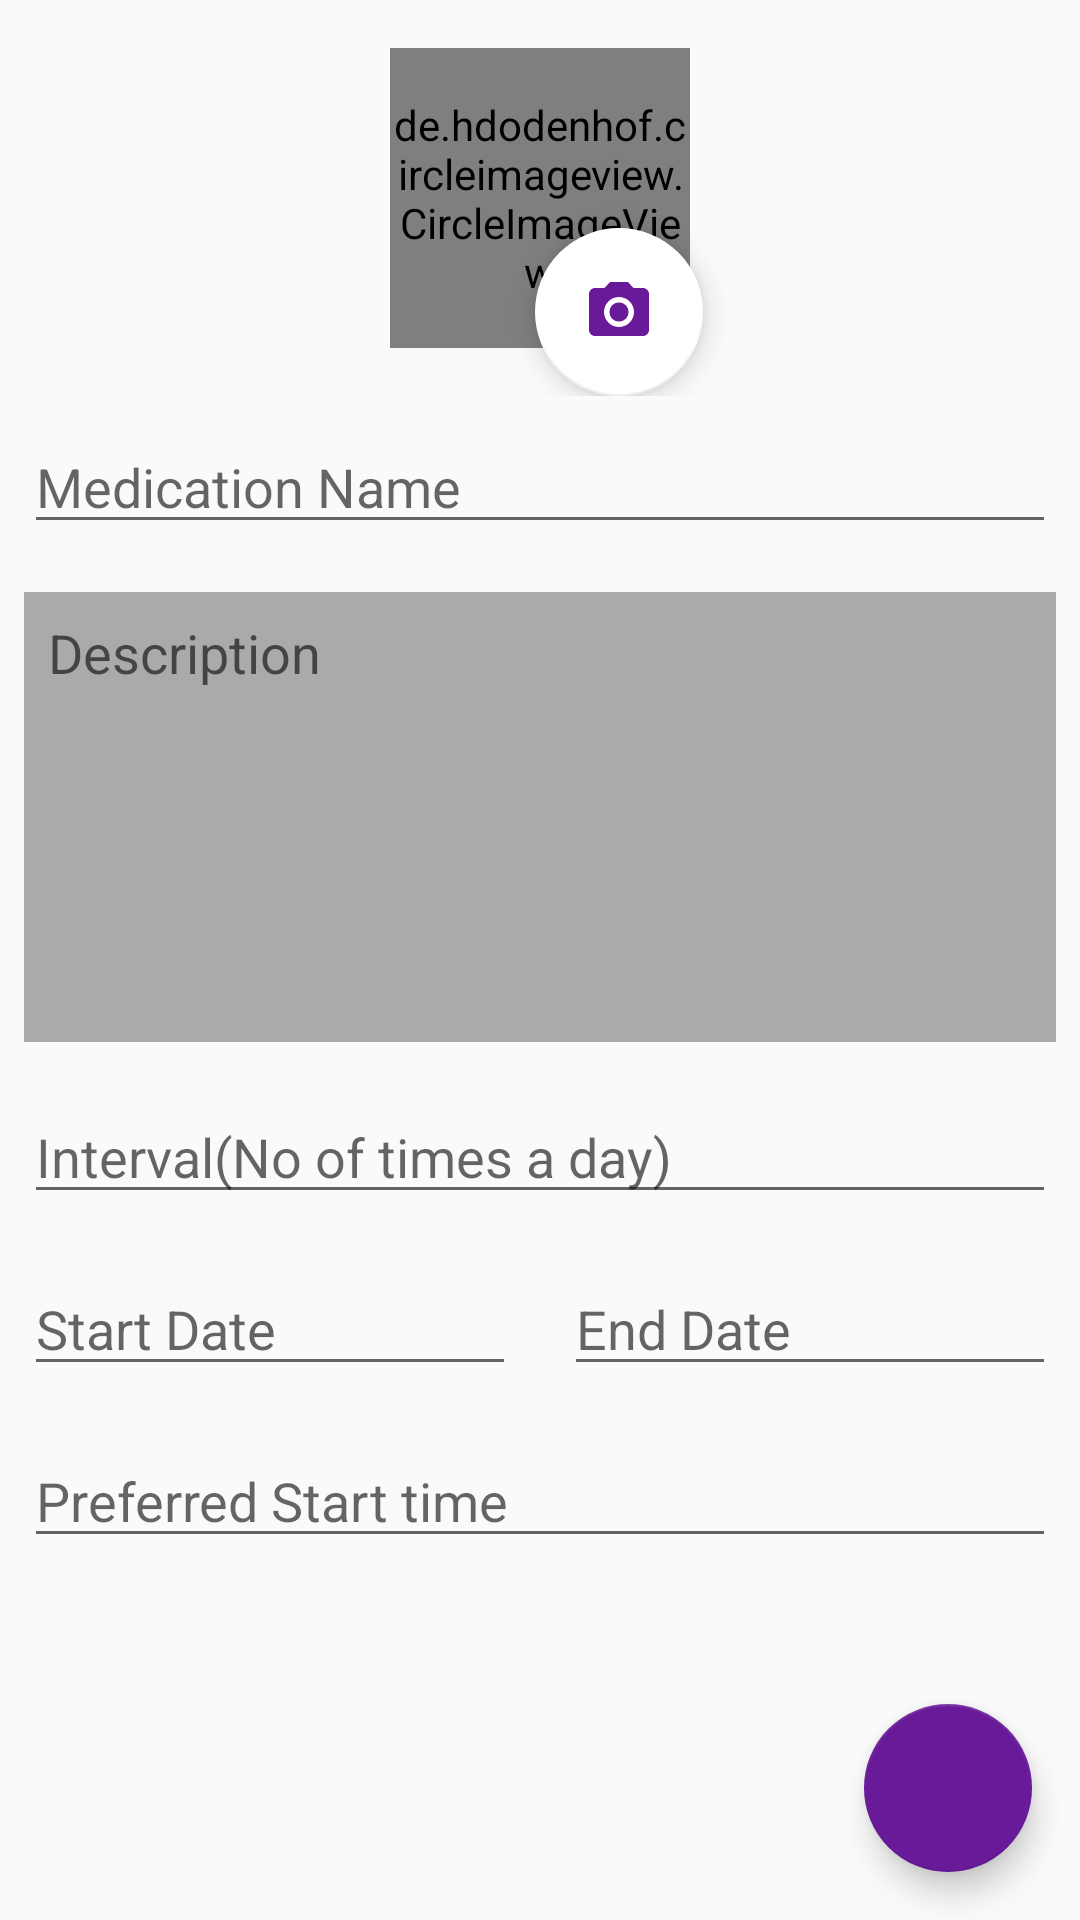

Screen size 1080px×1920px. Icon name, then its center in pixels as (x,y):
camera: (619,312)
